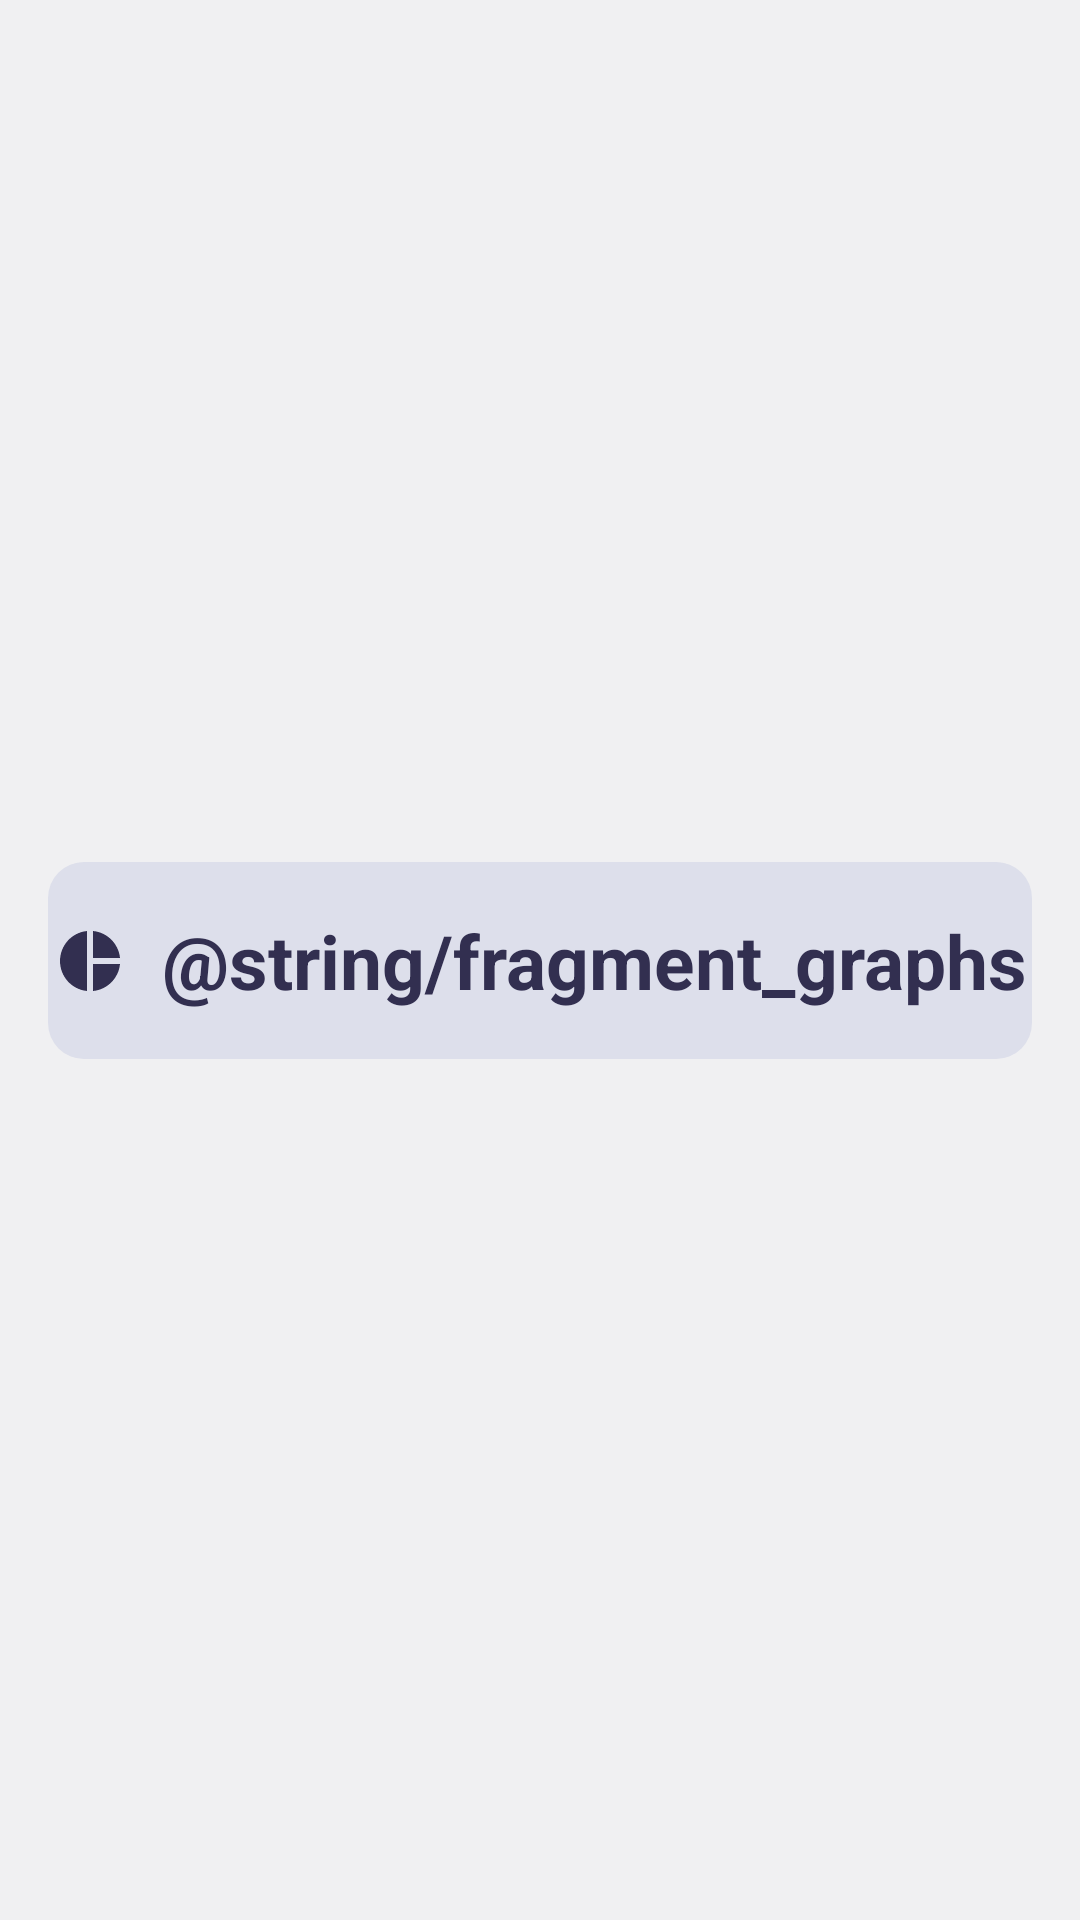

Where to tap for icons on this 1080×1920 app screen, as [x,y]:
pie chart: [90,961]
